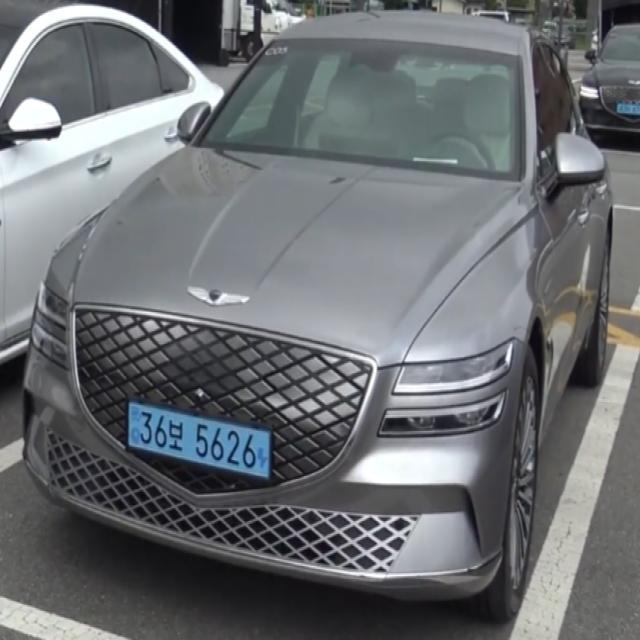car: (114, 382, 293, 505)
carev: (256, 424, 274, 487), (124, 395, 142, 456)
